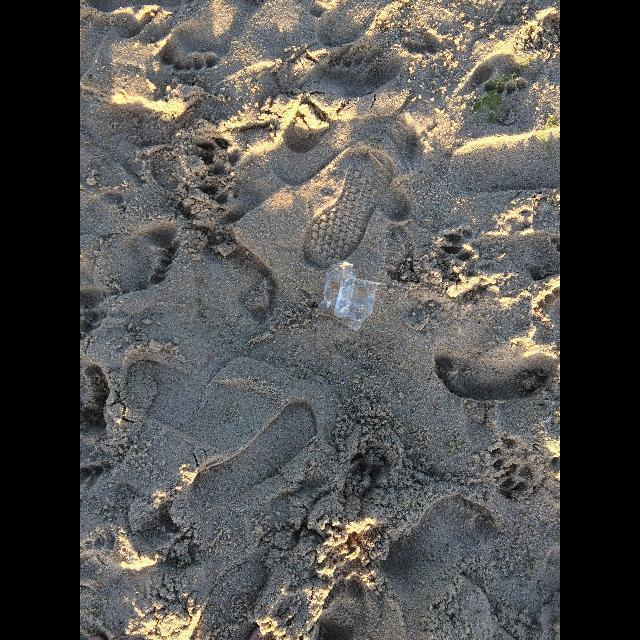Plastic: (314, 258, 378, 332)
